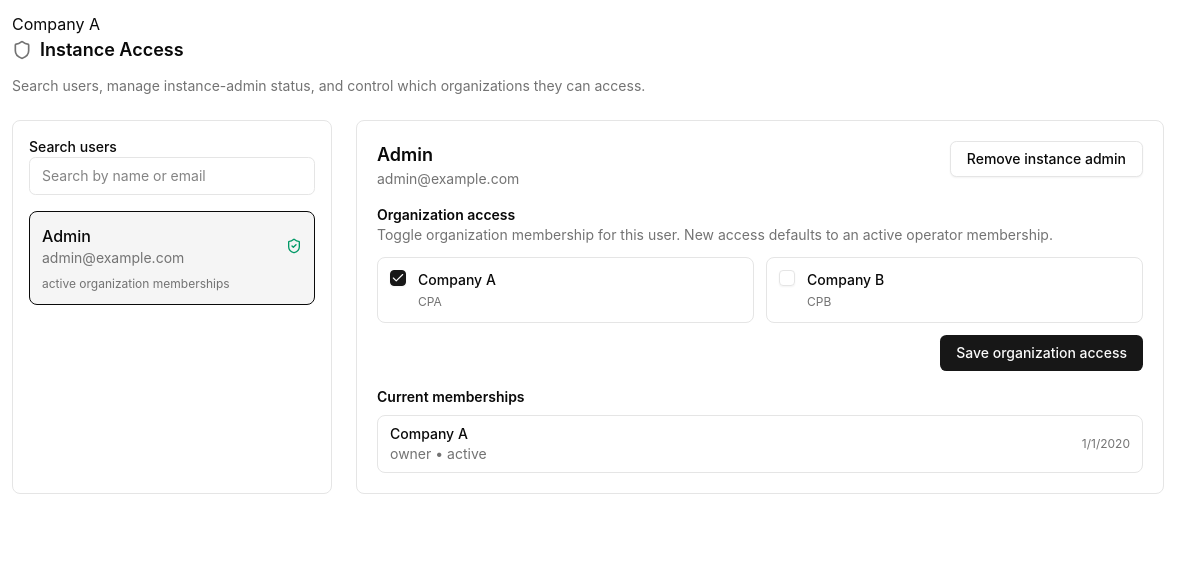
Scenario: InstanceAccess company directory › lets admins grant access outside their navigation list and refreshes their own navigation
This screenshot has width=1181, height=577.
expect the button "Save organization access" is shown: met, box [940,335,1143,371]
expect the navigation bar reads "Company A": met, box [12,14,100,34]
Click the checkbox next to "Company B" at (787, 278), box [779,270,795,286]
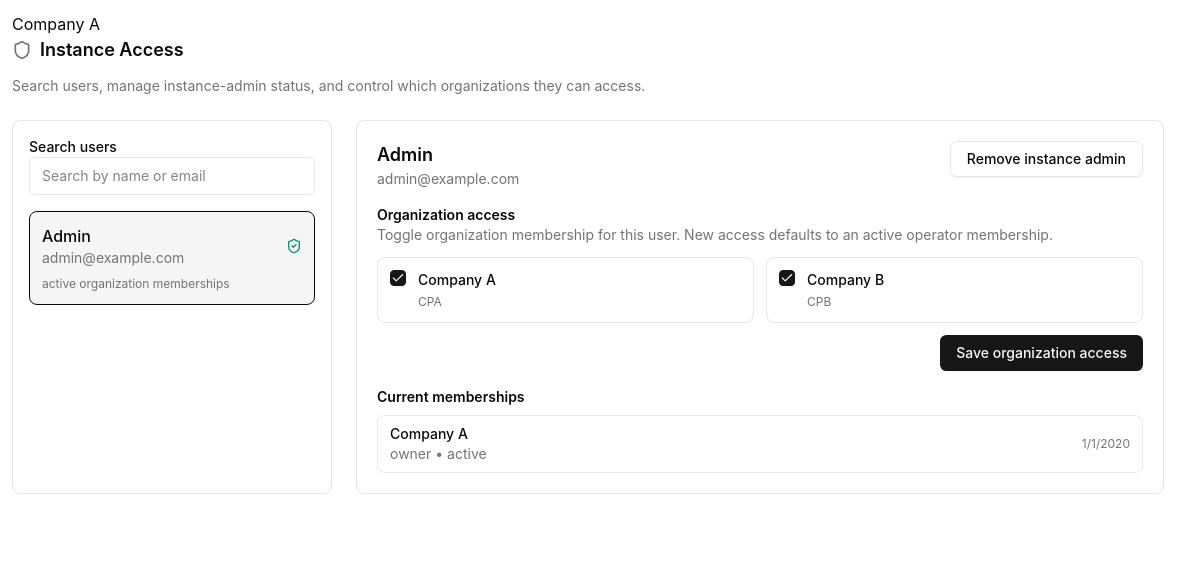
Click the button "Save organization access" at (1042, 353), box [940,335,1143,371]
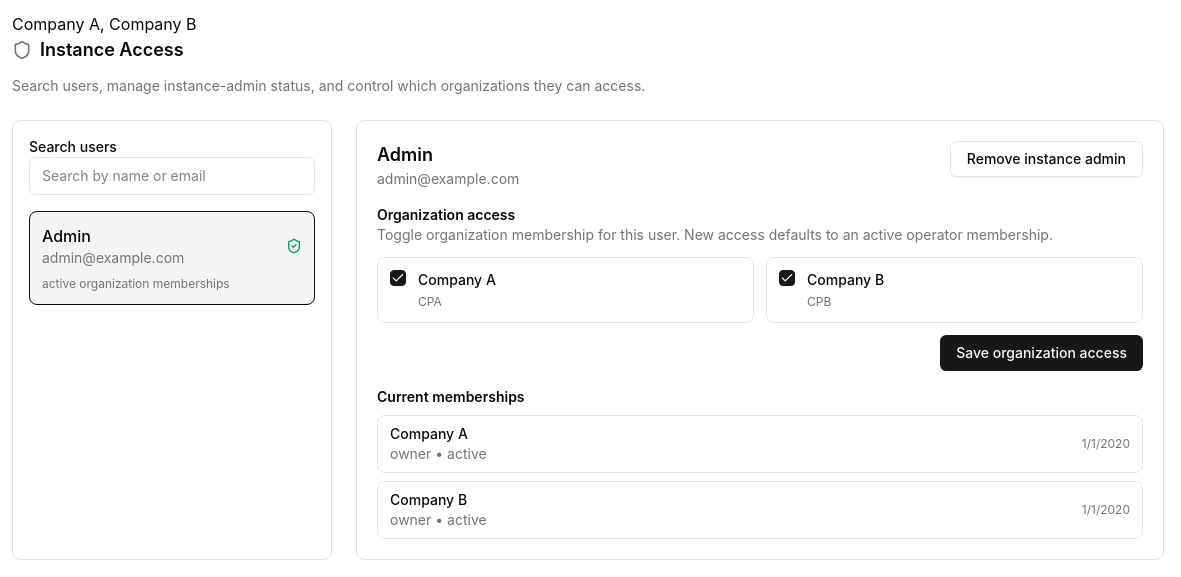
expect the navigation bar reads "Company A, Company B": met, box [12,14,196,34]
